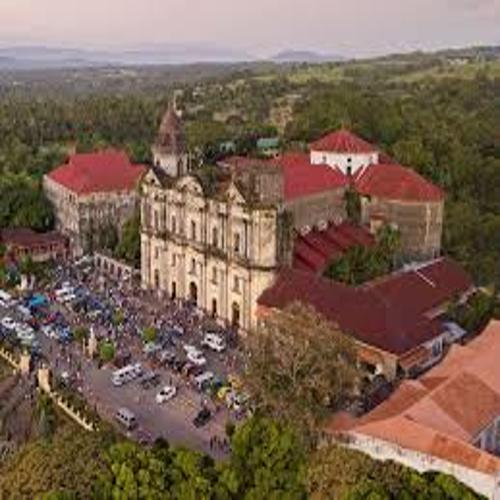Taal Basilica Church: (135, 100, 280, 341)
